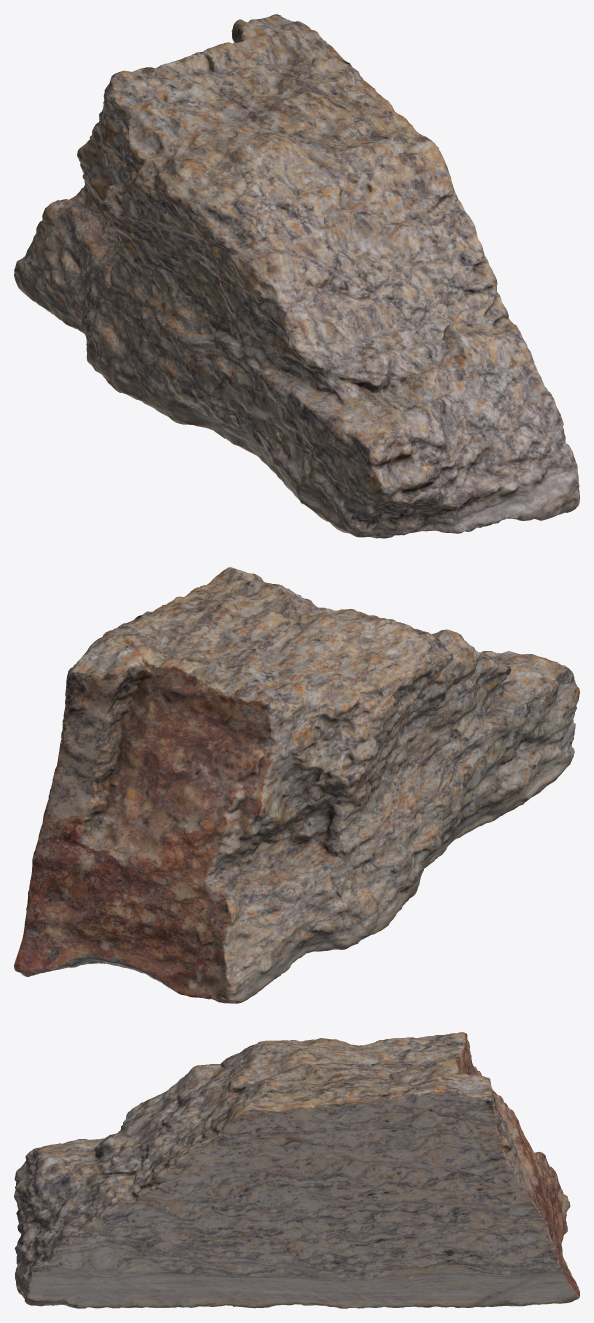
The picture shows the model from 3 angles, top to bottom: view 1: azimuth 30°, elevation 25°; view 2: azimuth 150°, elevation 25°; view 3: azimuth 270°, elevation 25°; orthographic projection. The views are drawn at different scales.
Parts seen in each view (by area): view 1: Metashape to blender; view 2: Metashape to blender; view 3: Metashape to blender.
Part boxes in pixels (<box>): Metashape to blender: <box>14,14,579,538</box>; Metashape to blender: <box>14,567,579,1003</box>; Metashape to blender: <box>14,1032,579,1308</box>.
Size of the model in its own units: 0.0521 by 0.0597 by 0.1363.
Materials: 1 (1 with a texture image).
